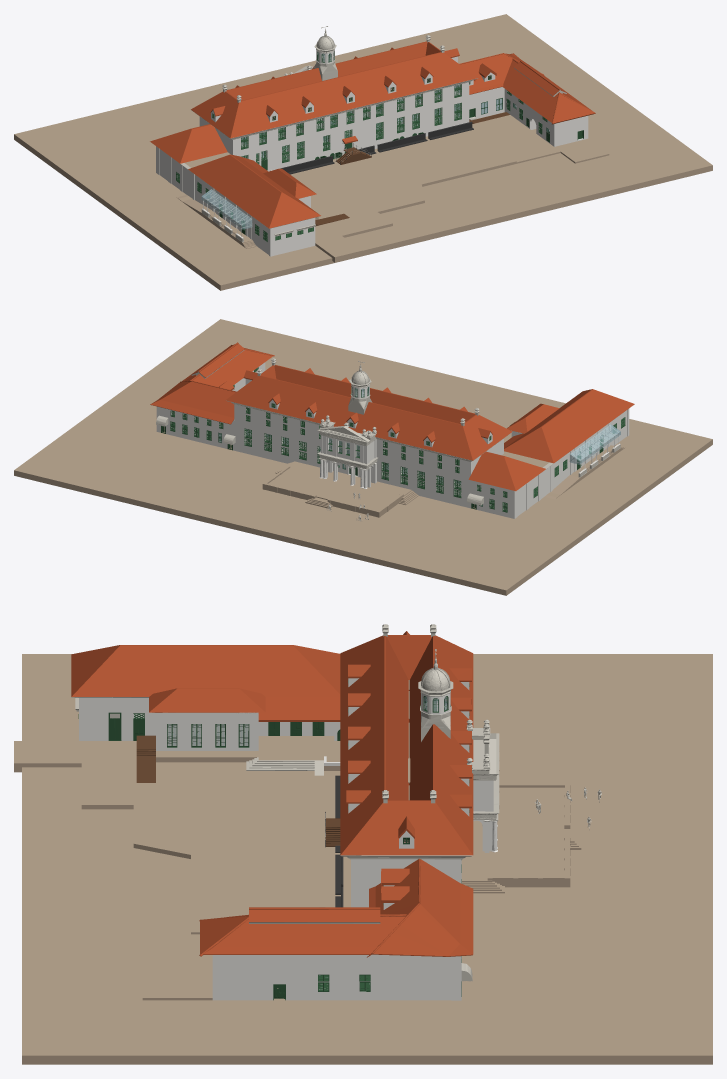
3 views of the same model, one above another, from view 1: azimuth 30°, elevation 25°; view 2: azimuth 150°, elevation 25°; view 3: azimuth 270°, elevation 25° (orthographic). The views are drawn at different scales.
Visible parts, largest first — view 1: atap, kaca; view 2: atap, kaca; view 3: atap, kaca.
Boxes of the visible parts, <box> form: atap: <box>14,14,712,290</box>; kaca: <box>201,52,549,229</box>; atap: <box>14,319,712,595</box>; kaca: <box>173,387,620,505</box>; atap: <box>14,624,712,1064</box>; kaca: <box>167,696,447,989</box>.
Bounding box in the file's own units: 135 × 30.9 × 99.14.
Materials: 2 (2 with a texture image).
